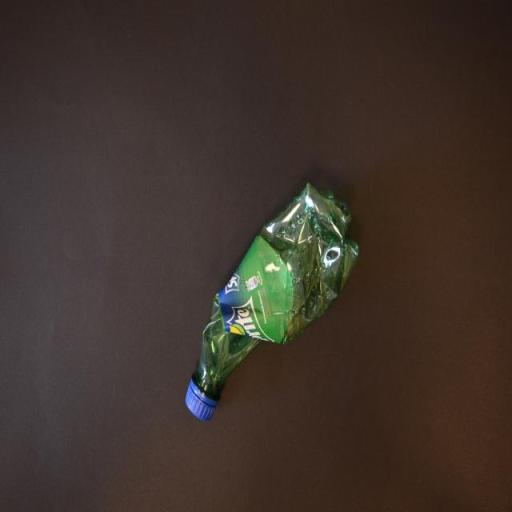plastic: (185, 176, 361, 423)
